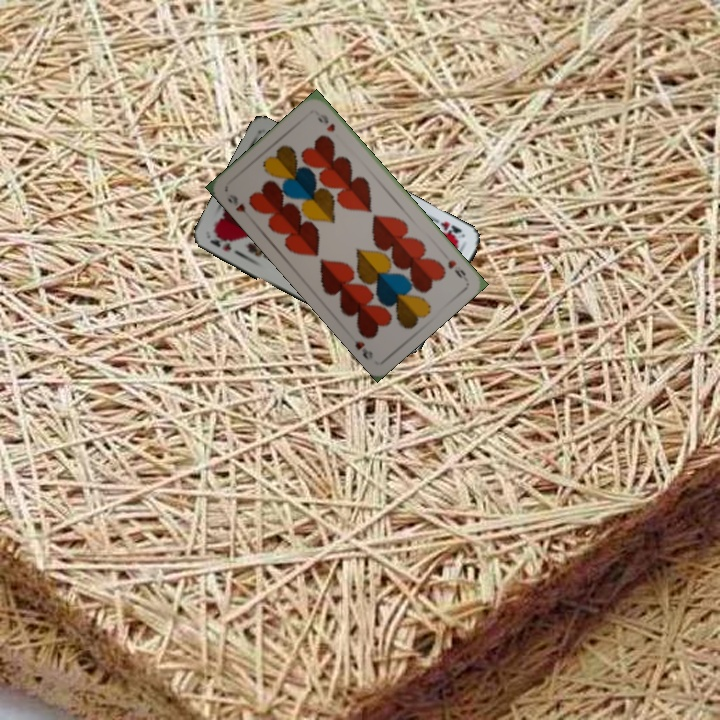H9: (224, 190, 253, 222), (443, 256, 470, 282)
HK: (429, 213, 467, 244), (206, 231, 234, 253)
